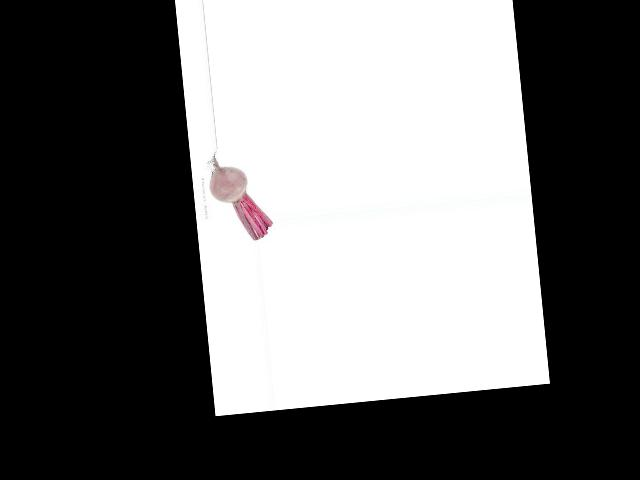beet: (206, 146, 273, 245)
